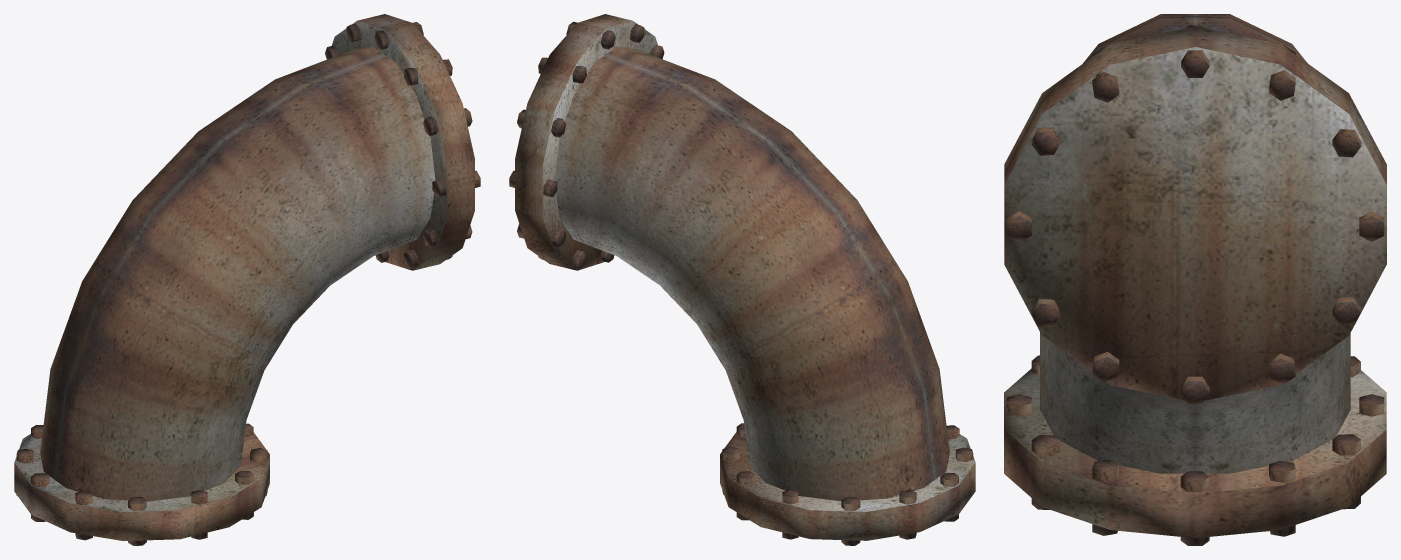
The model's file is pipe_9.obj.
The picture shows the model from 3 angles, left to right: view 1: azimuth 30°, elevation 25°; view 2: azimuth 150°, elevation 25°; view 3: azimuth 270°, elevation 25°; orthographic projection. The views are drawn at different scales.
Parts seen in each view (by area): view 1: pipe_9.obj; view 2: pipe_9.obj; view 3: pipe_9.obj.
Part boxes in pixels (box(x1,y1,x2,y2)): pipe_9.obj: box(14, 14, 480, 545); pipe_9.obj: box(509, 14, 975, 545); pipe_9.obj: box(1004, 14, 1386, 545).
Bounding box in the file's own units: 2.18 × 2.17 × 1.22.
1 material, 1 textured.
